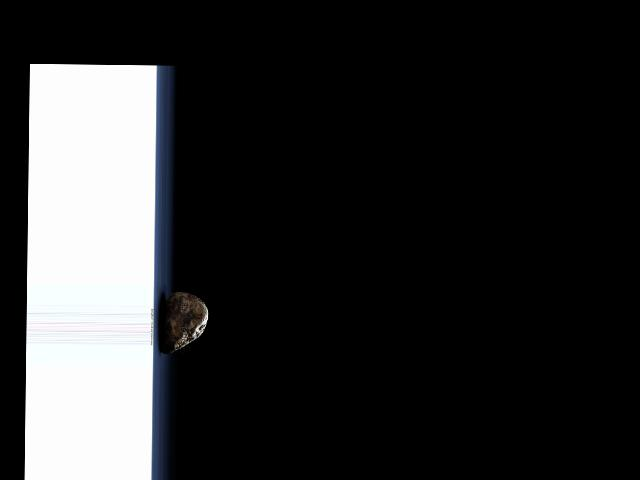beet: (160, 290, 207, 353)
